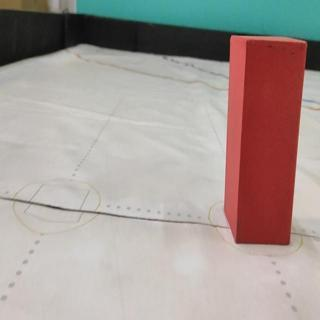redbox: (223, 33, 308, 246)
